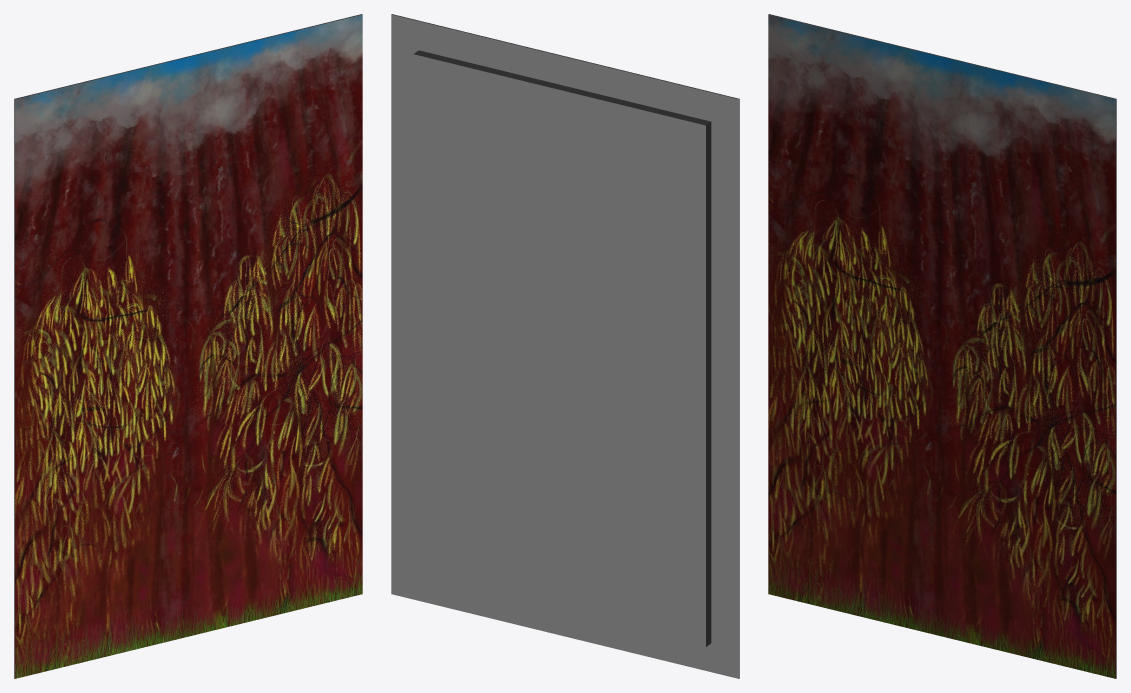
File: os025_grand_dibond.glb
The picture shows the model from 3 angles, left to right: view 1: azimuth 30°, elevation 25°; view 2: azimuth 150°, elevation 25°; view 3: azimuth 330°, elevation 25°; orthographic projection.
Parts seen in each view (by area): view 1: os025_grand_dibond; view 2: os025_grand_dibond; view 3: os025_grand_dibond.
Part boxes in pixels (<box>): os025_grand_dibond: <box>14,14,362,678</box>; os025_grand_dibond: <box>391,14,739,678</box>; os025_grand_dibond: <box>768,14,1116,678</box>.
Bounding box in the file's own units: 0.7537 × 1.2 × 0.023.
4 materials, 1 textured.
